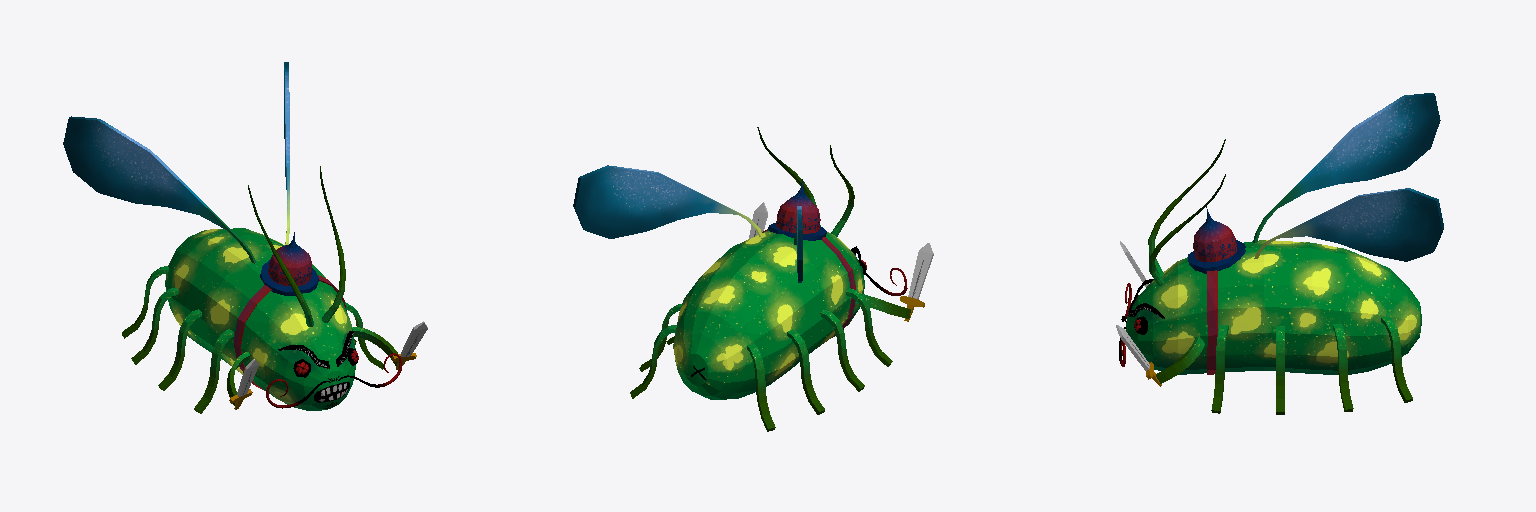
3 renders of one model, left to right at view 1: azimuth 30°, elevation 25°; view 2: azimuth 150°, elevation 25°; view 3: azimuth 270°, elevation 25°, orthographic.
Parts seen in each view (by area): view 1: wSphere.001_wSphere.002; view 2: wSphere.001_wSphere.002; view 3: wSphere.001_wSphere.002.
Boxes of the visible parts, x1,y1,x2,y2 form: wSphere.001_wSphere.002: [63, 62, 427, 413]; wSphere.001_wSphere.002: [573, 127, 933, 431]; wSphere.001_wSphere.002: [1116, 93, 1443, 414].
Bounding box in the file's own units: 1.47 × 1.41 × 1.85.
Materials: 1 (1 with a texture image).